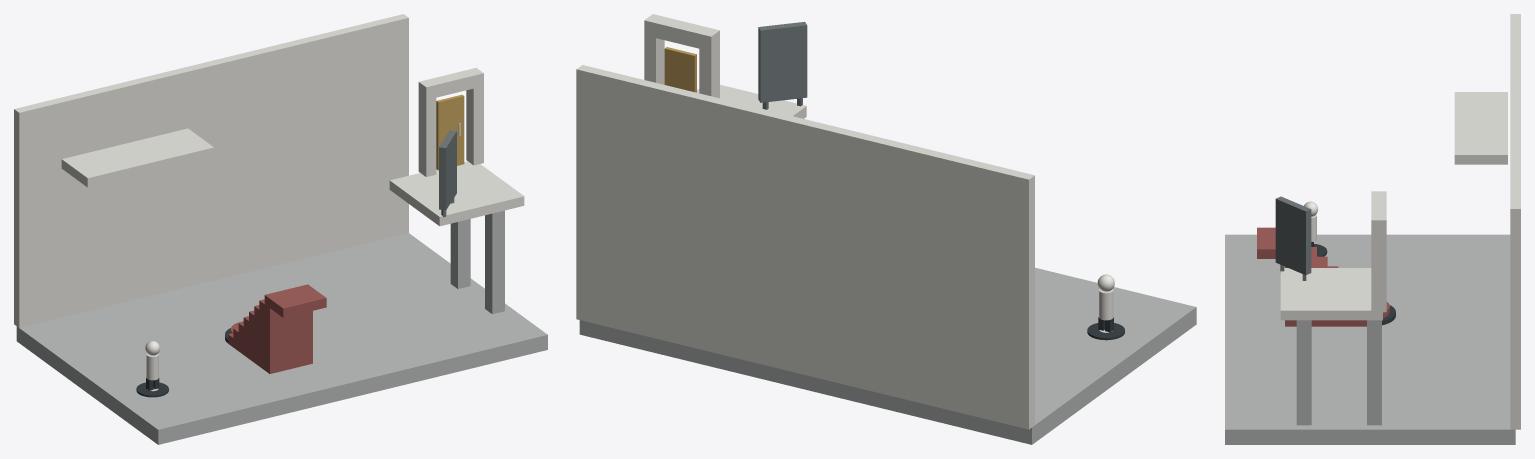
Rendered from 01_start.glb.
3 views of the same model, side by side, from view 1: azimuth 30°, elevation 25°; view 2: azimuth 150°, elevation 25°; view 3: azimuth 270°, elevation 25° (orthographic). The views are drawn at different scales.
Visible parts, largest first — view 1: RearWall, Base, RearShelf, FarPlatform, Step_7, FarSupport, LeftPier, RightPier, Door, FarSupportRear, TransitionMask, TopLanding (+1 smaller); view 2: RearWall, Base, TransitionMask, Lintel, LeftPier, Door, RightPier, FarPlatform; view 3: Base, FarPlatform, RearWall, RearShelf, TransitionMask, FarSupport, FarSupportRear, RightPier, TopLanding, Lintel.
Boxes of the visible parts, bbox=[...] form: RearWall: bbox=[14, 14, 408, 327]; Base: bbox=[16, 233, 547, 444]; RearShelf: bbox=[61, 128, 213, 187]; FarPlatform: bbox=[389, 161, 524, 226]; Step_7: bbox=[264, 284, 312, 373]; FarSupport: bbox=[485, 210, 504, 314]; LeftPier: bbox=[418, 81, 436, 176]; RightPier: bbox=[466, 67, 483, 165]; Door: bbox=[436, 94, 464, 170]; FarSupportRear: bbox=[450, 219, 470, 288]; TransitionMask: bbox=[439, 130, 456, 210]; TopLanding: bbox=[270, 288, 326, 317]; RearWall: bbox=[576, 65, 1034, 429]; Base: bbox=[579, 267, 1196, 444]; TransitionMask: bbox=[758, 21, 807, 102]; Lintel: bbox=[644, 14, 719, 51]; LeftPier: bbox=[699, 30, 719, 98]; Door: bbox=[664, 47, 696, 92]; RightPier: bbox=[644, 14, 664, 84]; FarPlatform: bbox=[697, 84, 806, 118]; Base: bbox=[1225, 234, 1515, 444]; FarPlatform: bbox=[1280, 268, 1382, 320]; RearWall: bbox=[1510, 14, 1520, 429]; RearShelf: bbox=[1454, 92, 1507, 164]; TransitionMask: bbox=[1275, 196, 1311, 275]; FarSupport: bbox=[1296, 320, 1311, 425]; FarSupportRear: bbox=[1367, 320, 1381, 425]; RightPier: bbox=[1371, 215, 1386, 312]; TopLanding: bbox=[1257, 227, 1275, 258]; Lintel: bbox=[1371, 191, 1386, 230].
Size of the model in its own units: 11 by 6.1 by 6.93.
